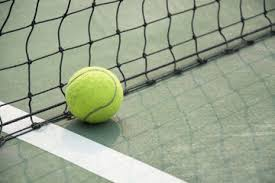tennis_ball: (64, 66, 123, 123)
